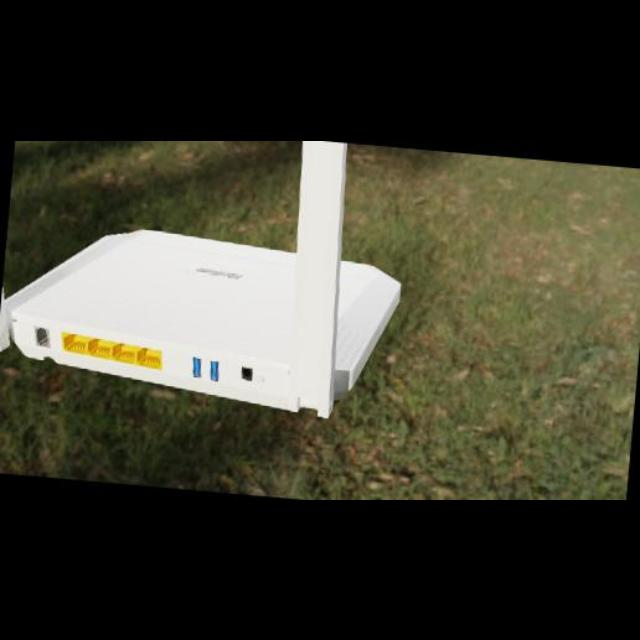Router: (3, 140, 405, 430)
